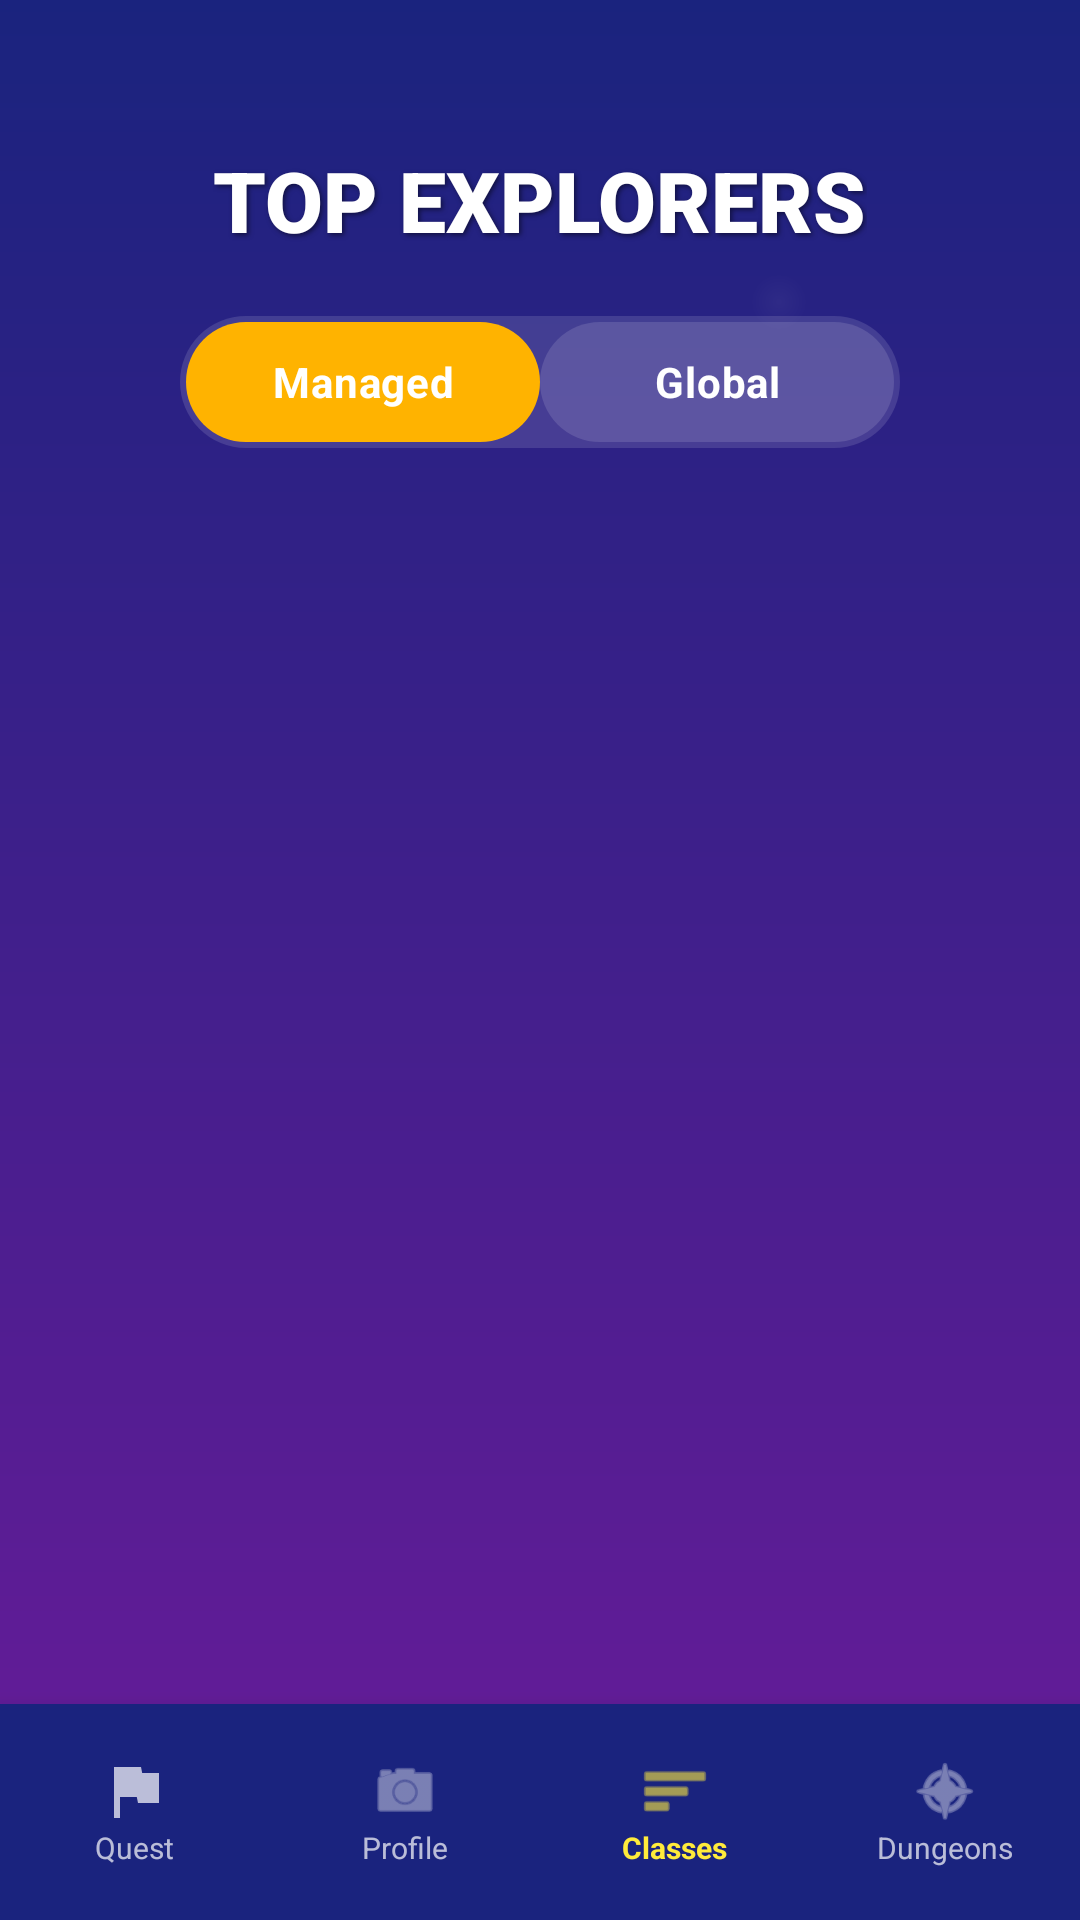

Locate icon controls on the screen. Image size 1080 x 1920, boxes as (x1, y1, x2, y2).
camera: (377, 1768, 433, 1812)
compass: (916, 1763, 973, 1820)
sort by size: (644, 1771, 706, 1812)
